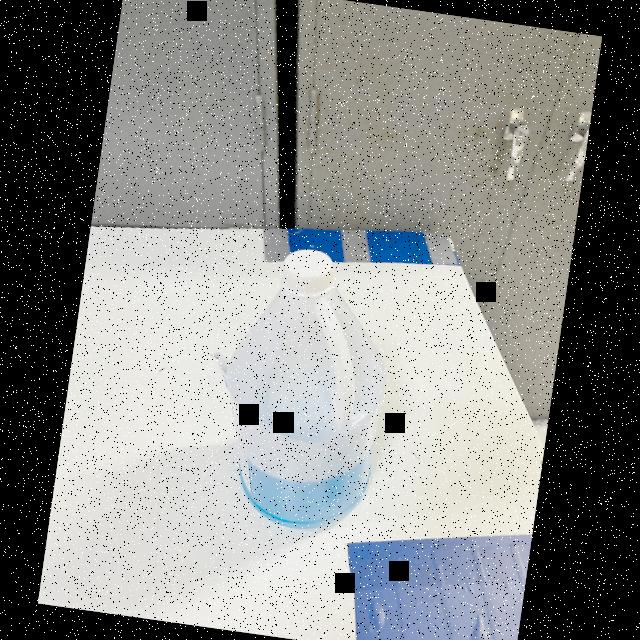chemical_plastic_gallon: (202, 233, 409, 540)
